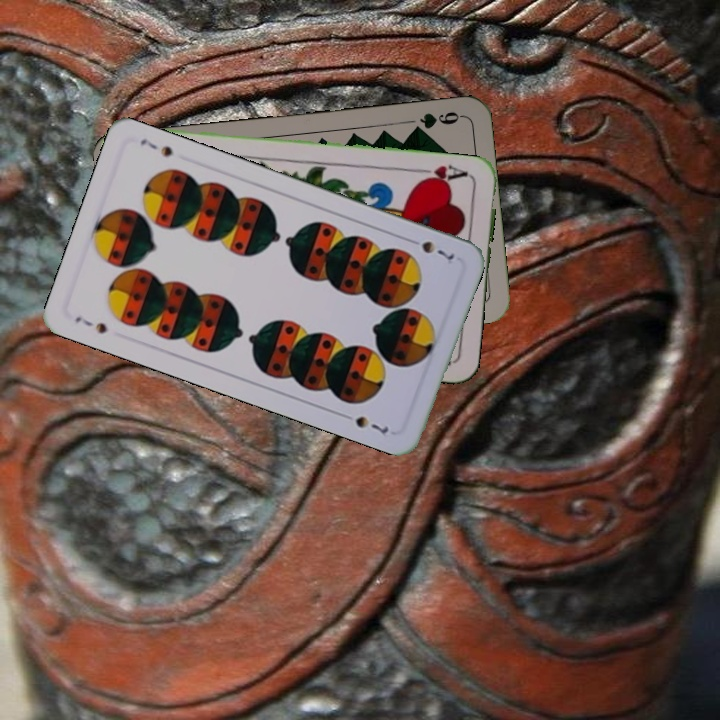G9: (407, 107, 465, 136)
HA: (413, 160, 473, 187)
S7: (403, 234, 457, 263), (71, 312, 110, 337)
